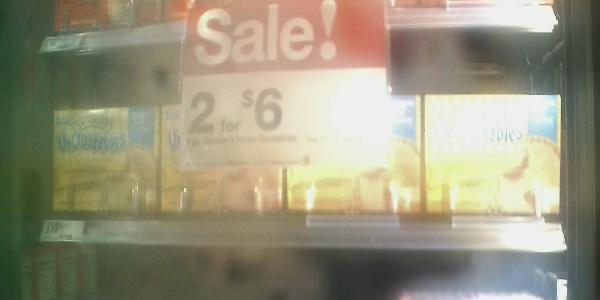icecream: (424, 91, 562, 237), (285, 92, 421, 221), (162, 104, 286, 214), (48, 106, 163, 218)
